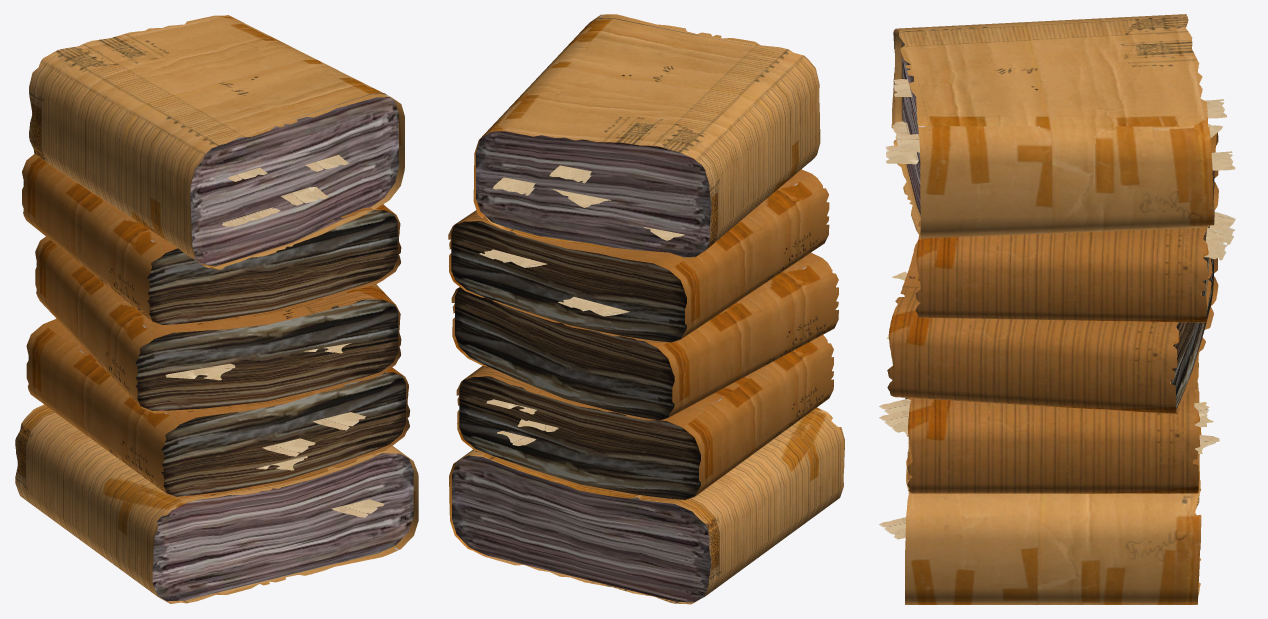
File: decor_paperstack_column2.obj
3 renders of one model, left to right at view 1: azimuth 30°, elevation 25°; view 2: azimuth 150°, elevation 25°; view 3: azimuth 270°, elevation 25°, orthographic. The views are drawn at different scales.
Parts seen in each view (by area): view 1: decor_paperstack_column2; view 2: decor_paperstack_column2; view 3: decor_paperstack_column2.
Part boxes in pixels (box(x1,y1,x2,y2)): decor_paperstack_column2: box(15, 15, 418, 603); decor_paperstack_column2: box(448, 14, 844, 604); decor_paperstack_column2: box(879, 14, 1235, 604).
Size of the model in its own units: 36.57 by 57.32 by 40.83.
1 material, 1 textured.
